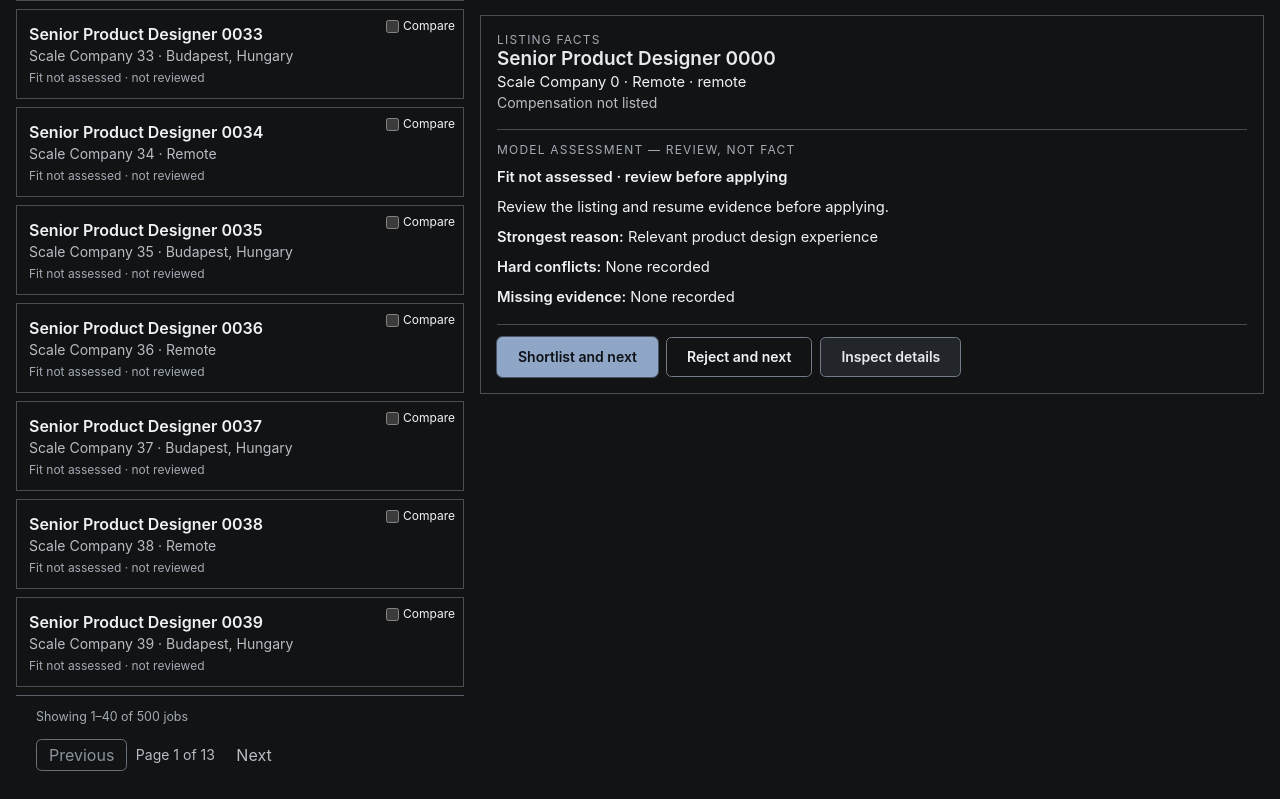
RapidReviewScreen pagination consistency › keeps page 6 of a 500-job campaign anchored to one active row with a matching detail
(page scrolled)
Click the button with aria-label "Next page" at (254,755), box [223, 739, 285, 771]
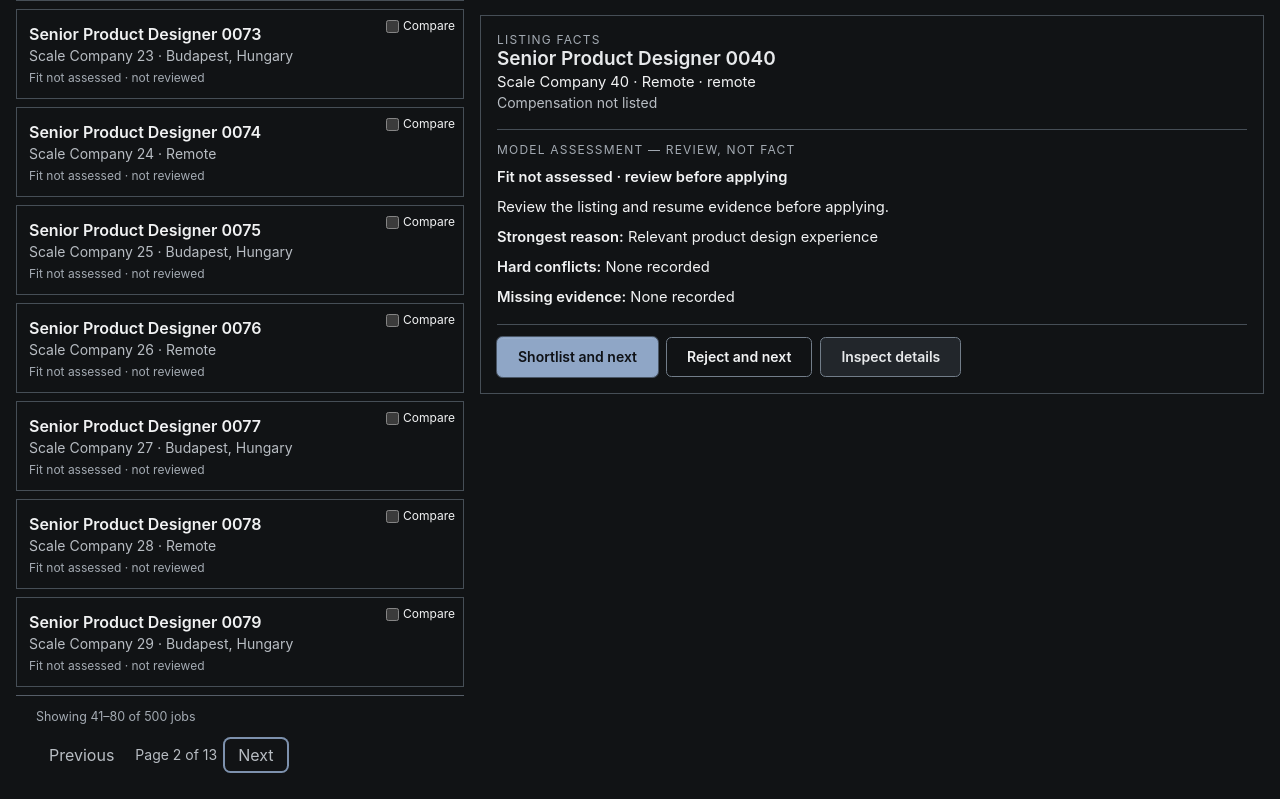
Click the button with aria-label "Next page" at (256,755), box [225, 739, 286, 771]
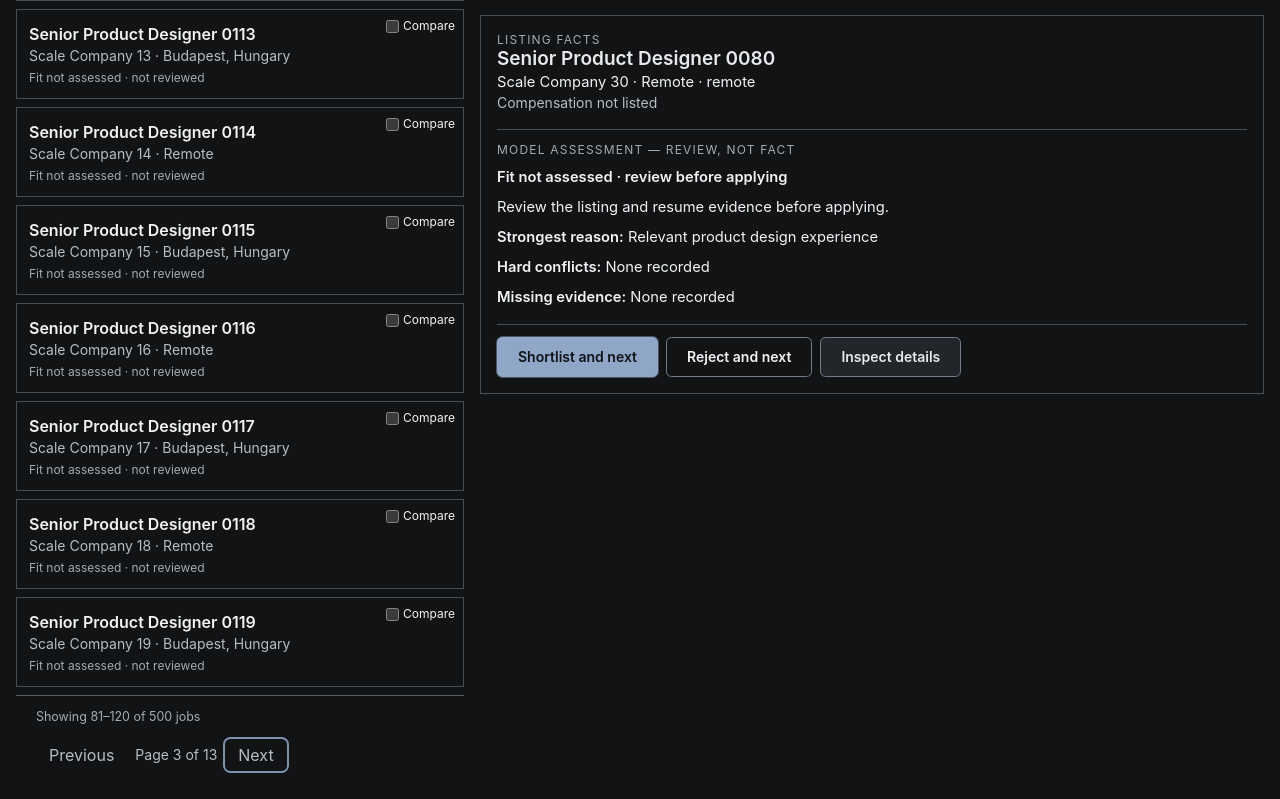
Click the button with aria-label "Next page" at (256,755), box [225, 739, 287, 771]
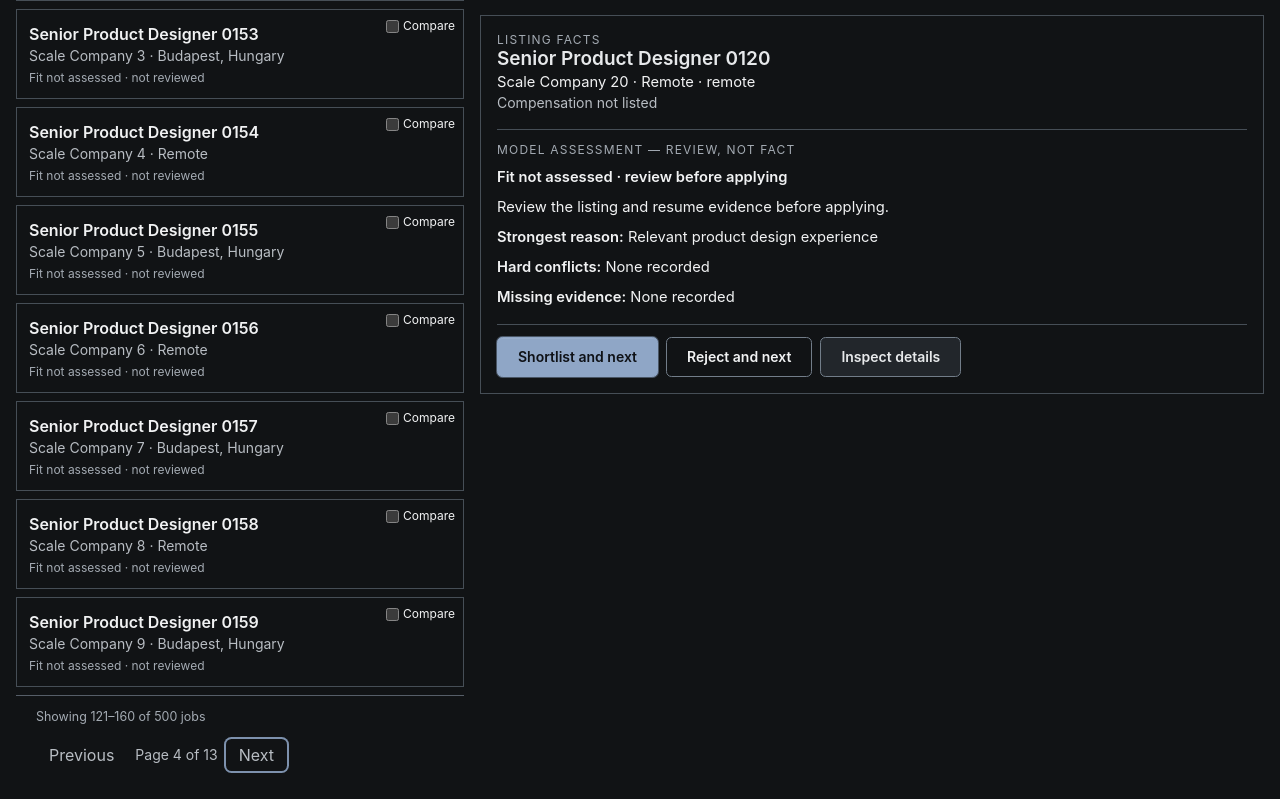
Click the button with aria-label "Next page" at (256,755), box [226, 739, 287, 771]
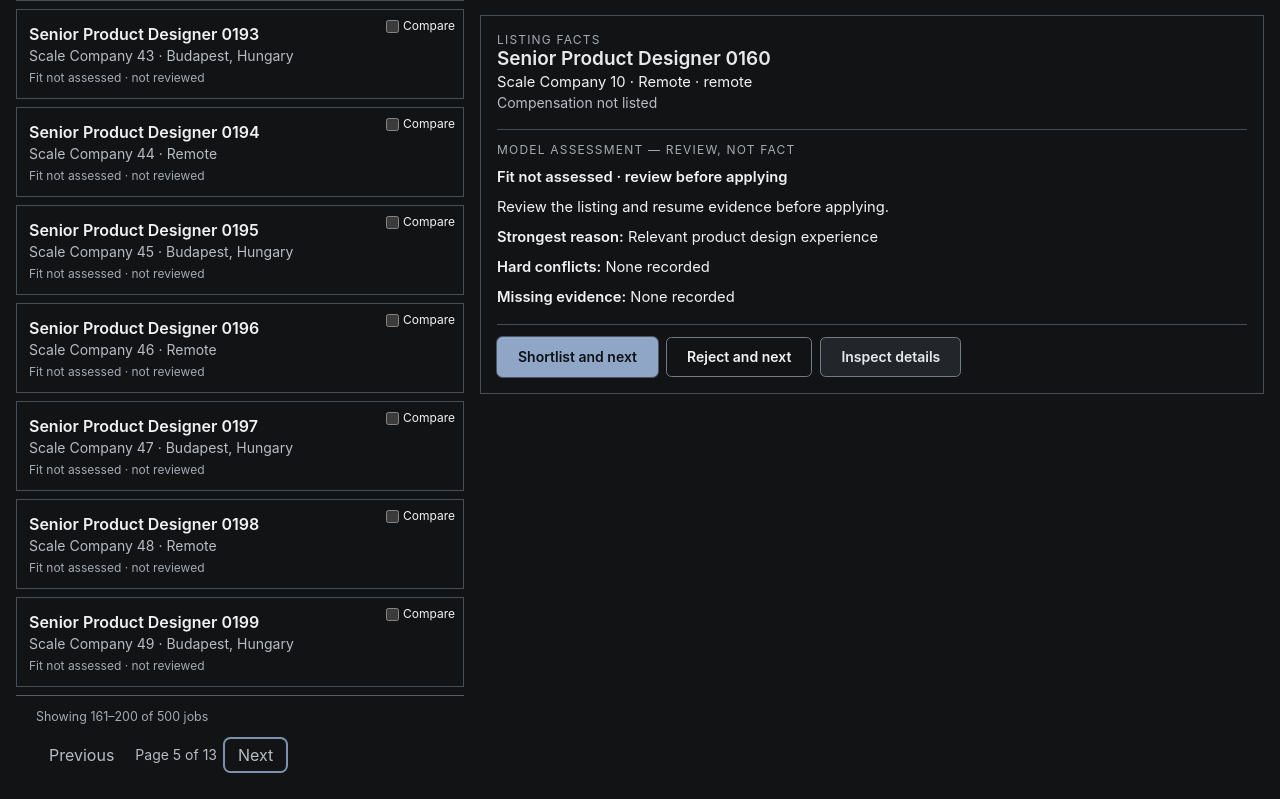
Click the button with aria-label "Next page" at (256,755), box [225, 739, 286, 771]
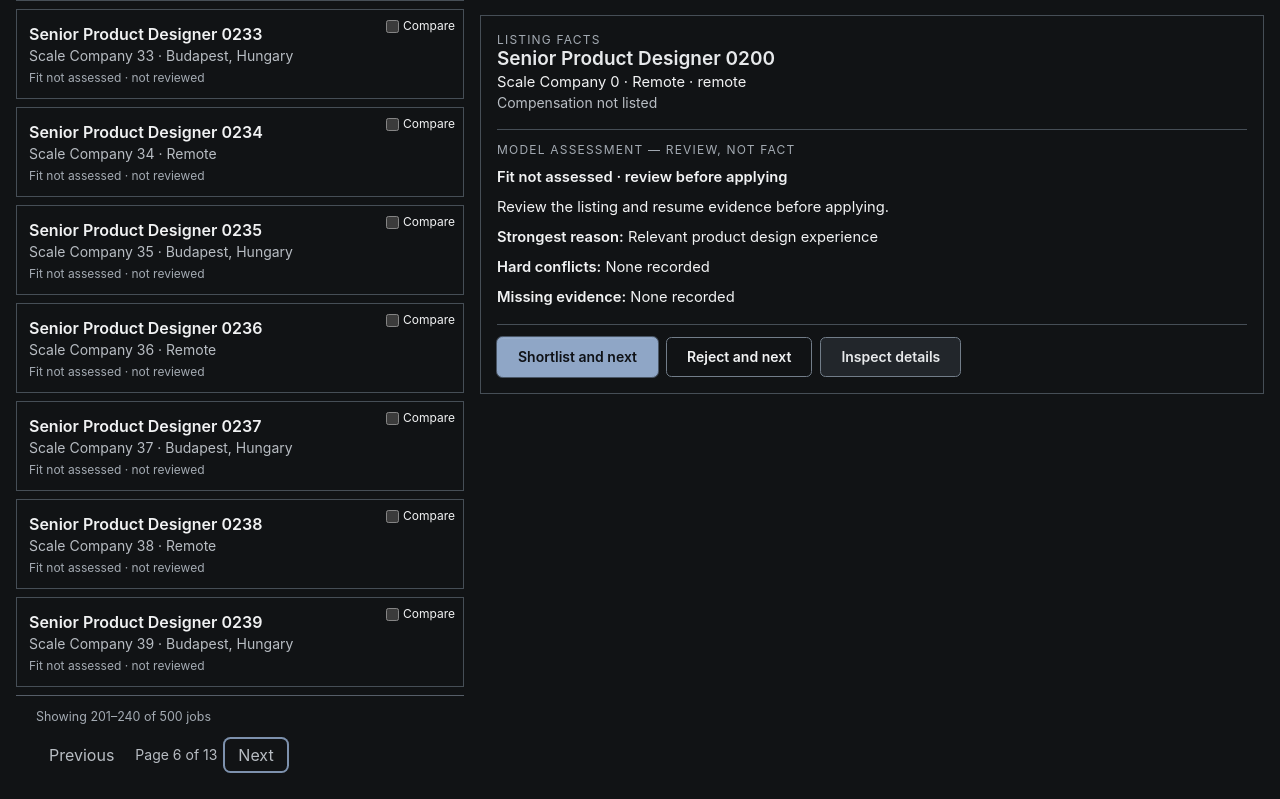
Expected: the list "0000" is not shown
Now the text "Showing 201–240 of 500 jobs" is shown, box [36, 708, 211, 727]
Now the element "Senior Product Designer 0200" is shown, box [480, 15, 1264, 394]
